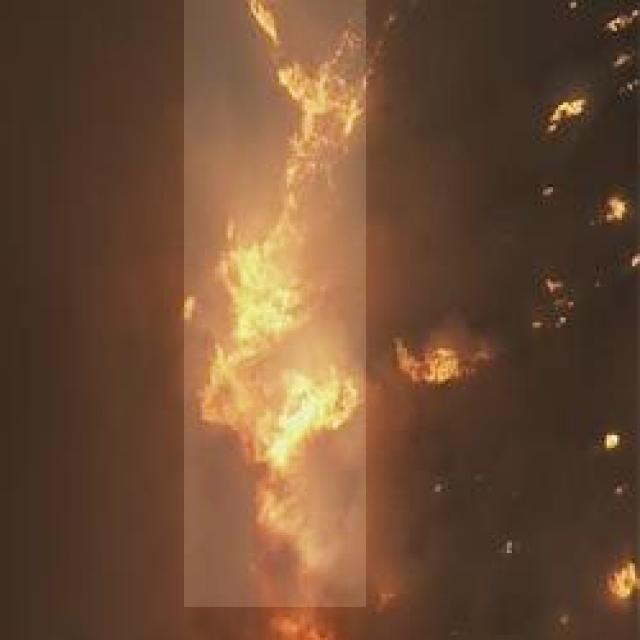Fire: (184, 0, 366, 607)
